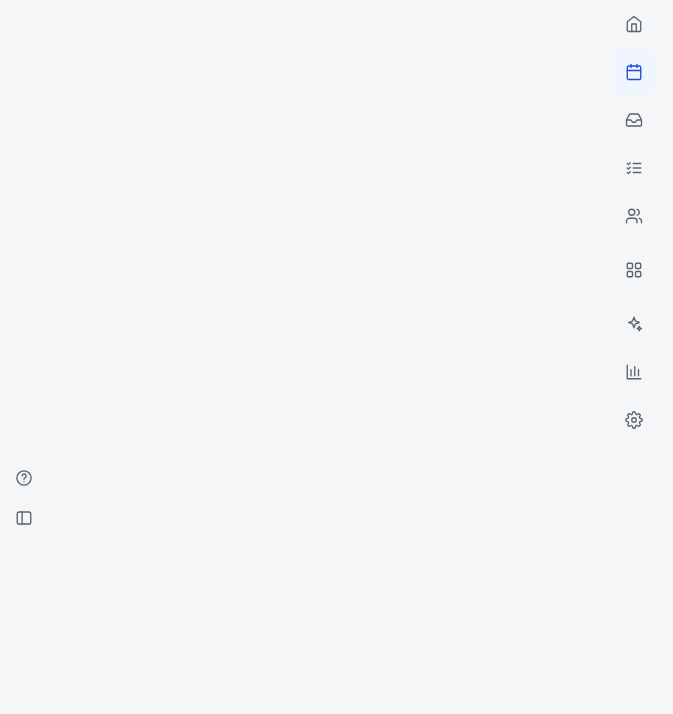
Test: MISSÃO UX CLOSURE · o rail (só ícones, tooltip, sem submenu inline) › a extensão abre no hover, sobrevive ao trânsito até ela e fecha só ao sair
Note: hover abre na hora
Hover over the button named "Clínica" at x=634, y=270, box [612,248,656,292]
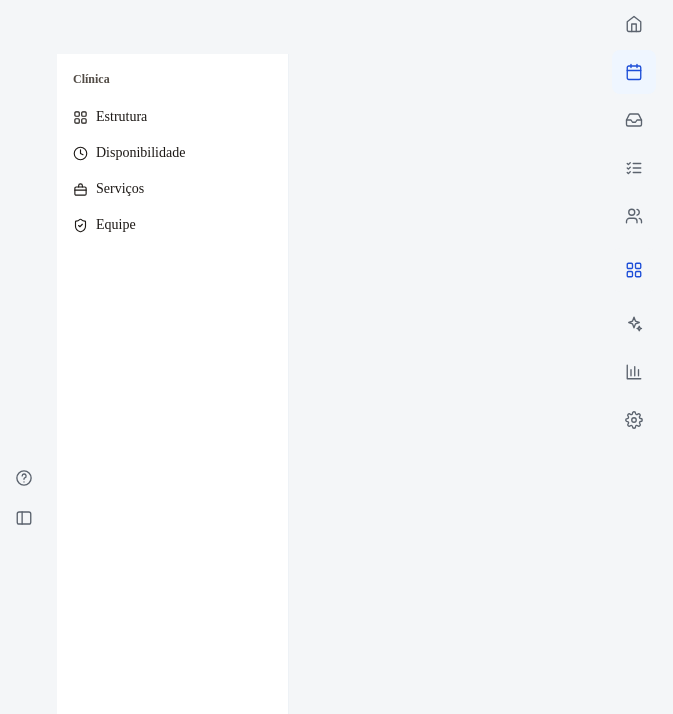
Hover over the menu with id "ws-nav-panel" at x=173, y=384, box [57,54,289,713]
Now the menu with id "ws-nav-panel" is shown
Note: …e sair do painel fecha depois do pequeno atraso.
Move the pointer off the menu with id "ws-nav-panel", box [57,54,289,713]
Wait 325 ms
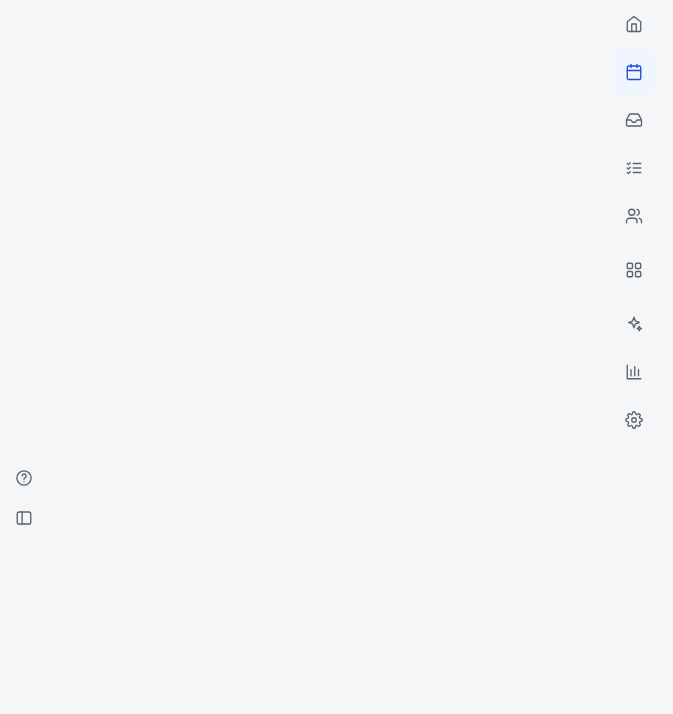
Now the menu with id "ws-nav-panel" is gone
